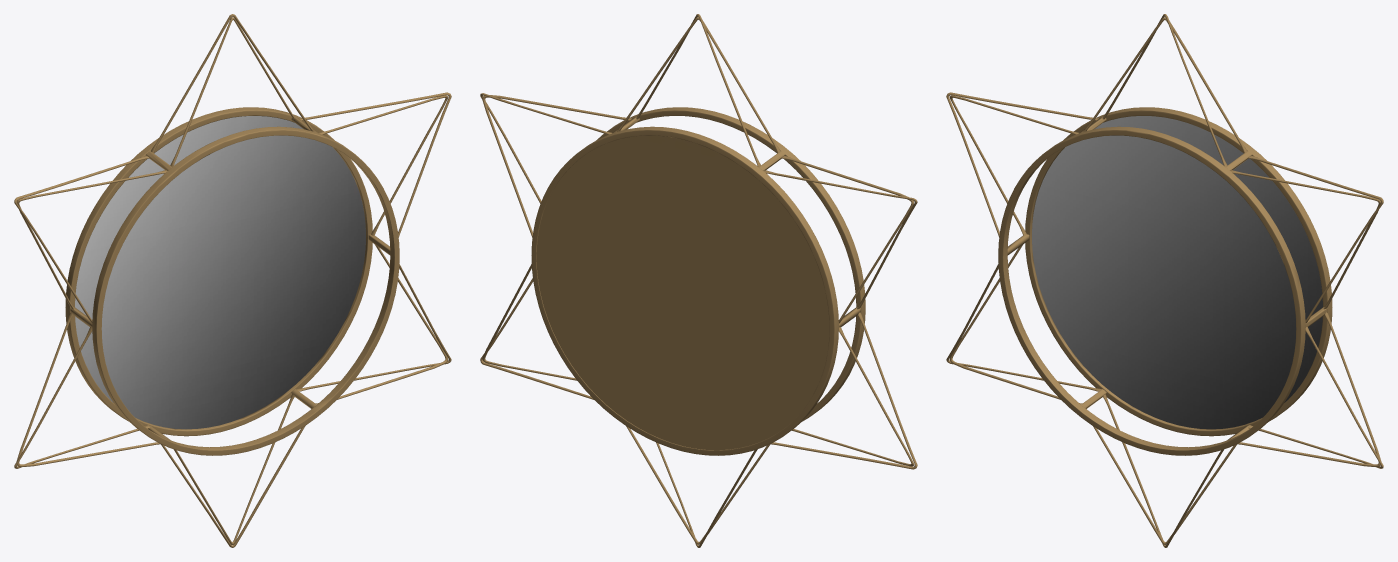
File: B073WHB435.glb
3 renders of one model, left to right at view 1: azimuth 30°, elevation 25°; view 2: azimuth 150°, elevation 25°; view 3: azimuth 330°, elevation 25°, orthographic.
Visible parts, largest first — view 1: RootNode; view 2: RootNode; view 3: RootNode.
Boxes of the visible parts, <box> form: RootNode: <box>14,14,451,547</box>; RootNode: <box>480,14,917,547</box>; RootNode: <box>946,14,1383,547</box>.
Size of the model in its own units: 0.4983 by 0.5815 by 0.0622.
1 material, 1 textured.
